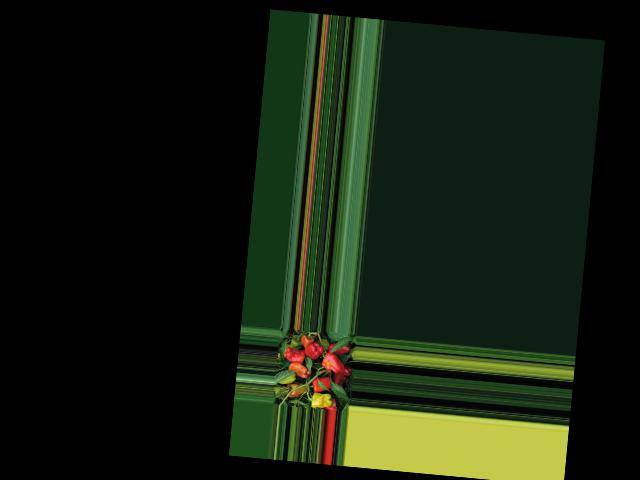bell_pepper: (300, 333, 311, 347)
